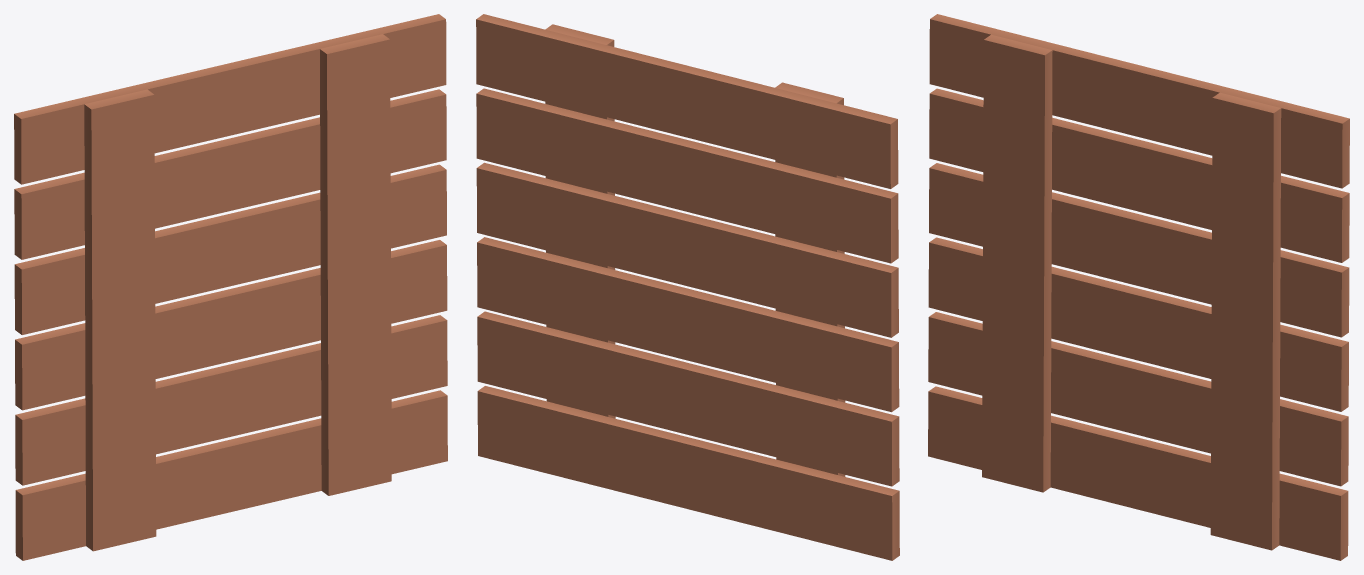
The model's file is planks.069_lev4.glb.
3 views of the same model, side by side, from view 1: azimuth 30°, elevation 25°; view 2: azimuth 150°, elevation 25°; view 3: azimuth 330°, elevation 25° (orthographic).
Parts seen in each view (by area): view 1: planks.069_lev4; view 2: planks.069_lev4; view 3: planks.069_lev4.
Boxes of the visible parts, x1,y1,x2,y2 form: planks.069_lev4: (14,14,447,560); planks.069_lev4: (476,14,899,560); planks.069_lev4: (928,14,1349,560).
Size of the model in its own units: 7.11 by 7.11 by 0.5785.
Materials: 1 (1 with a texture image).
